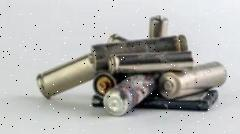electronic: (22, 14, 94, 104), (154, 63, 232, 105), (97, 70, 155, 120), (147, 10, 173, 42)
